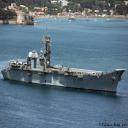Portanaves: (2, 27, 128, 96)
